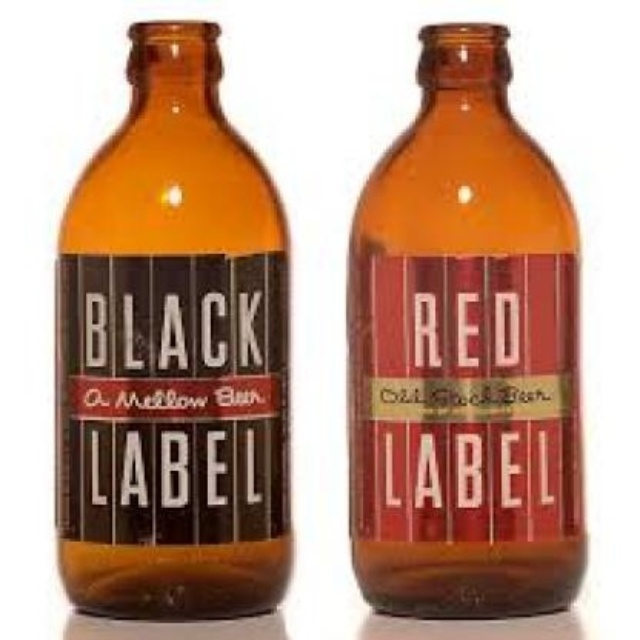trash: (348, 25, 585, 615), (57, 22, 289, 617)
